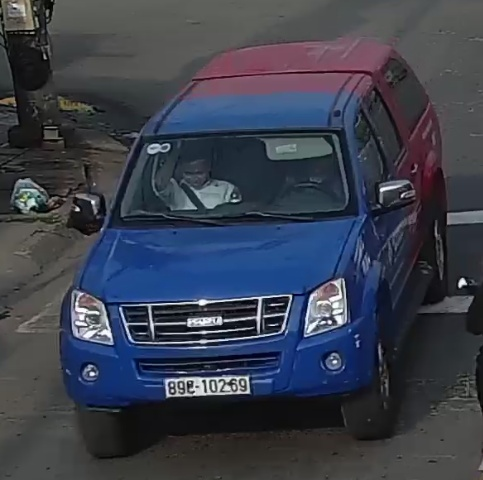vehicle plate: (157, 374, 254, 397)
